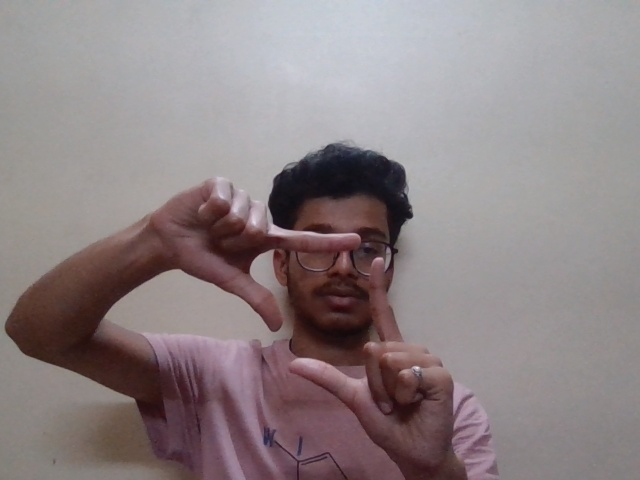video: (167, 174, 474, 448)
